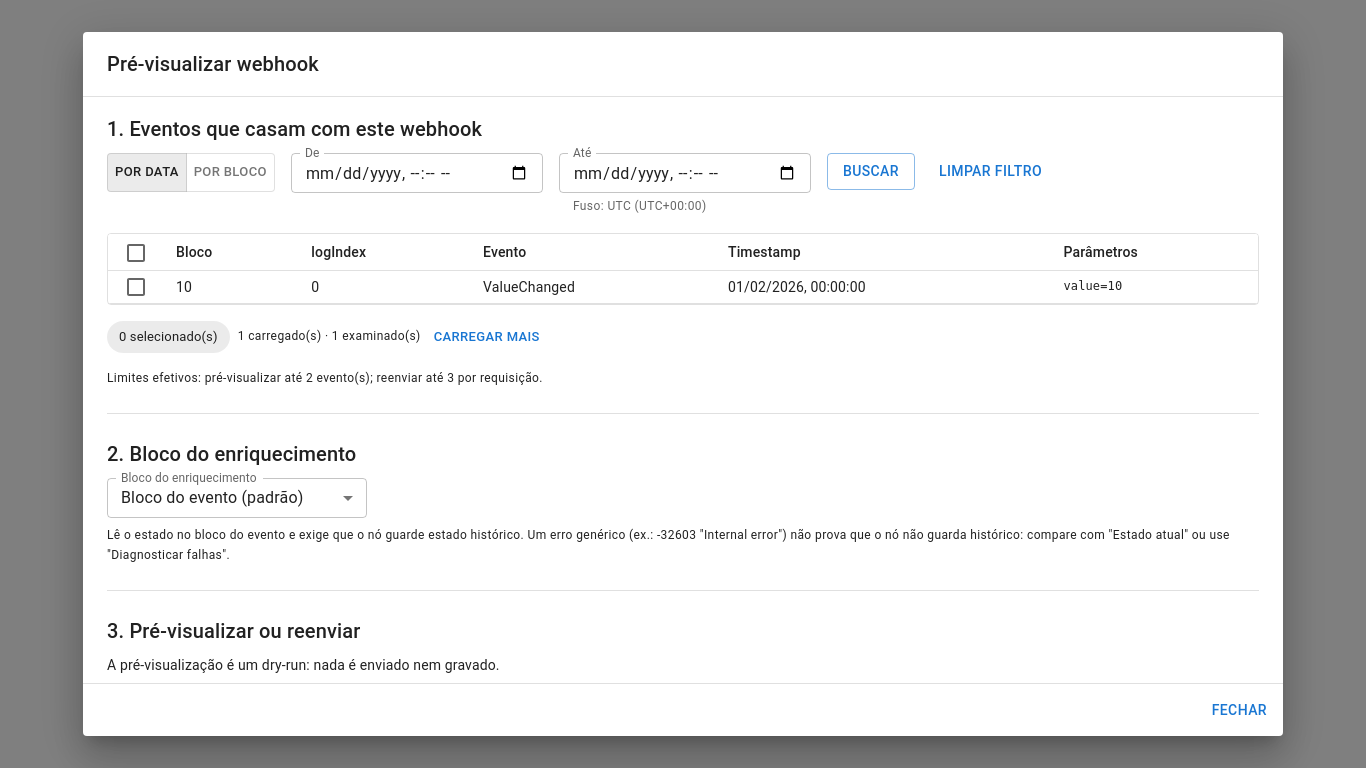
Test: WebhookResendDialog — seletor de eventos › pagina por cursor com "Carregar mais" e usa nextCursor
This screenshot has width=1366, height=768.
Expected: the checkbox named "selecionar evento do bloco 10 " is shown, [124, 275, 148, 299]
Click the button "Carregar mais" at {"x": 487, "y": 337}, box [429, 322, 545, 352]
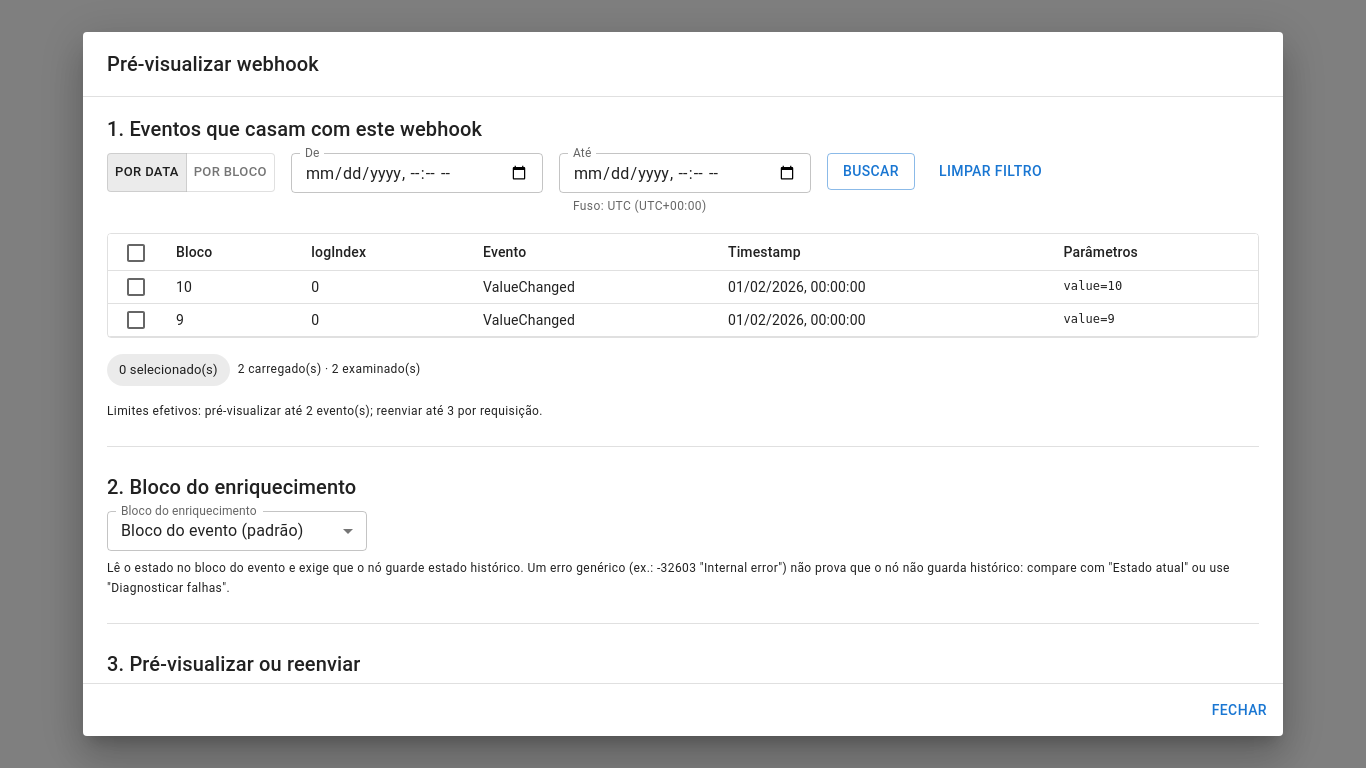
Now the checkbox named "selecionar evento do bloco 9 " is shown, box [124, 308, 148, 332]
Now the button "Carregar mais" is gone
